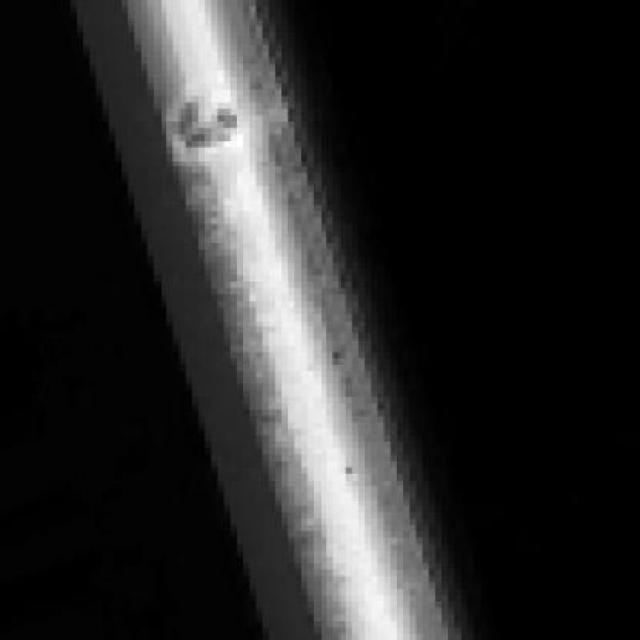non-defective: (54, 0, 534, 640)
